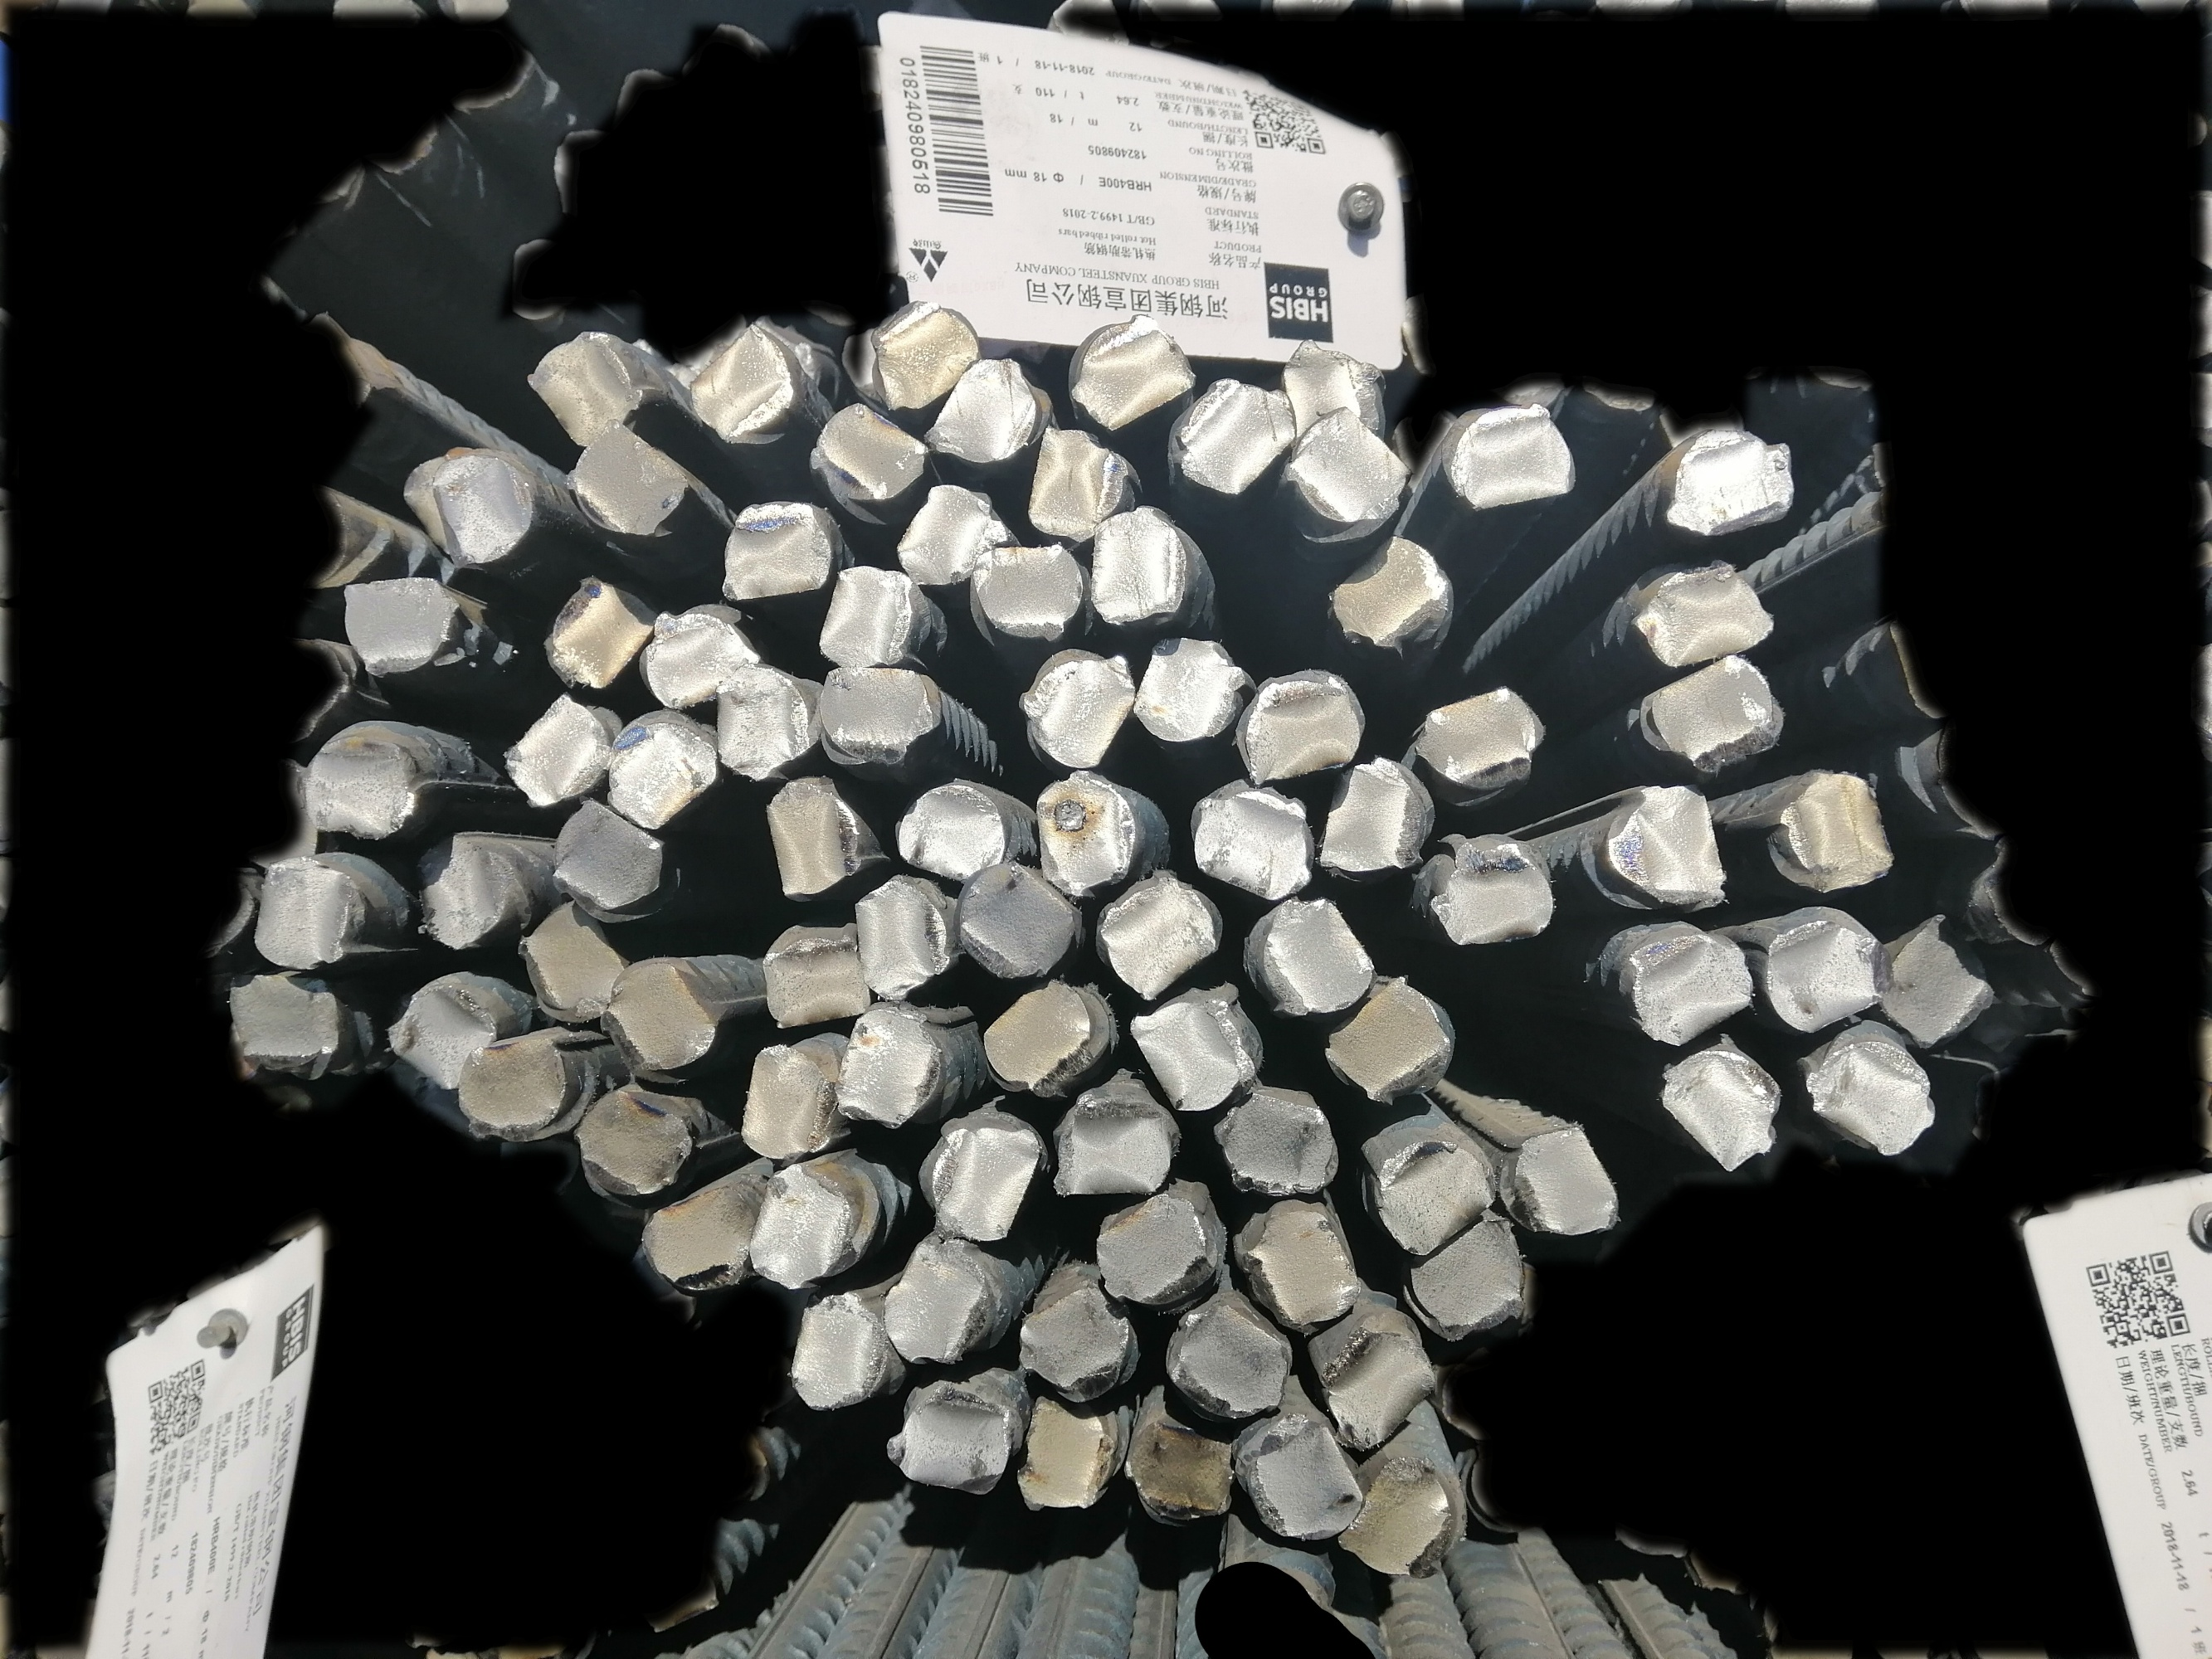rebar: (1234, 1406, 1365, 1549), (1314, 978, 1455, 1108), (1652, 1033, 1781, 1173), (1644, 652, 1788, 774), (1804, 1033, 1942, 1161), (1762, 762, 1898, 889), (1243, 1199, 1365, 1340), (1126, 990, 1257, 1121), (1096, 866, 1220, 1004), (1328, 525, 1455, 657), (1623, 925, 1757, 1051), (1342, 1459, 1471, 1588), (1405, 1202, 1523, 1342), (1316, 1323, 1440, 1455), (1626, 559, 1778, 667), (1761, 913, 1895, 1035), (417, 450, 544, 577), (882, 1380, 1020, 1497), (1370, 1133, 1496, 1260), (1445, 397, 1579, 516), (1876, 917, 1992, 1053), (1166, 1295, 1293, 1419), (296, 721, 425, 843), (1236, 666, 1365, 788), (1414, 678, 1546, 796), (1316, 751, 1435, 884), (1013, 645, 1137, 770), (1607, 784, 1731, 910), (1288, 404, 1410, 532), (333, 572, 467, 687), (1659, 422, 1795, 535), (1072, 312, 1198, 434), (1429, 826, 1555, 948), (1252, 896, 1379, 1016), (600, 951, 715, 1084), (600, 709, 725, 829), (1503, 1115, 1623, 1241), (1191, 781, 1313, 903), (924, 1121, 1046, 1243), (1170, 376, 1295, 495), (1096, 1187, 1215, 1310), (744, 1161, 852, 1295), (640, 1173, 758, 1295), (526, 324, 645, 446), (577, 1082, 694, 1206), (807, 394, 931, 511), (955, 863, 1079, 979), (565, 423, 690, 538), (518, 897, 628, 1028), (553, 795, 669, 917), (690, 315, 802, 443), (882, 1239, 992, 1368), (1018, 1283, 1135, 1403), (1035, 767, 1140, 899), (865, 298, 983, 415), (1128, 629, 1246, 746), (981, 979, 1103, 1093), (500, 690, 612, 812), (1218, 1087, 1340, 1199), (638, 601, 763, 709), (549, 568, 655, 695), (711, 655, 818, 782), (816, 666, 943, 770), (385, 972, 493, 1094), (1055, 1093, 1175, 1201), (230, 965, 342, 1080), (1121, 1410, 1236, 1521), (854, 877, 953, 1006), (415, 824, 516, 950), (967, 540, 1089, 643), (837, 1007, 938, 1131), (762, 770, 861, 896), (1030, 418, 1130, 544), (1088, 500, 1187, 624), (251, 856, 363, 965), (455, 1033, 568, 1141), (896, 483, 1013, 587), (1276, 333, 1389, 439), (892, 779, 1008, 884), (718, 498, 833, 603), (786, 1295, 887, 1413), (927, 356, 1037, 464), (760, 924, 873, 1028), (1018, 1394, 1114, 1514), (814, 565, 920, 669), (743, 1044, 833, 1159)
